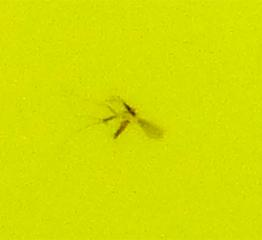Nematocera: (100, 100, 162, 140)
